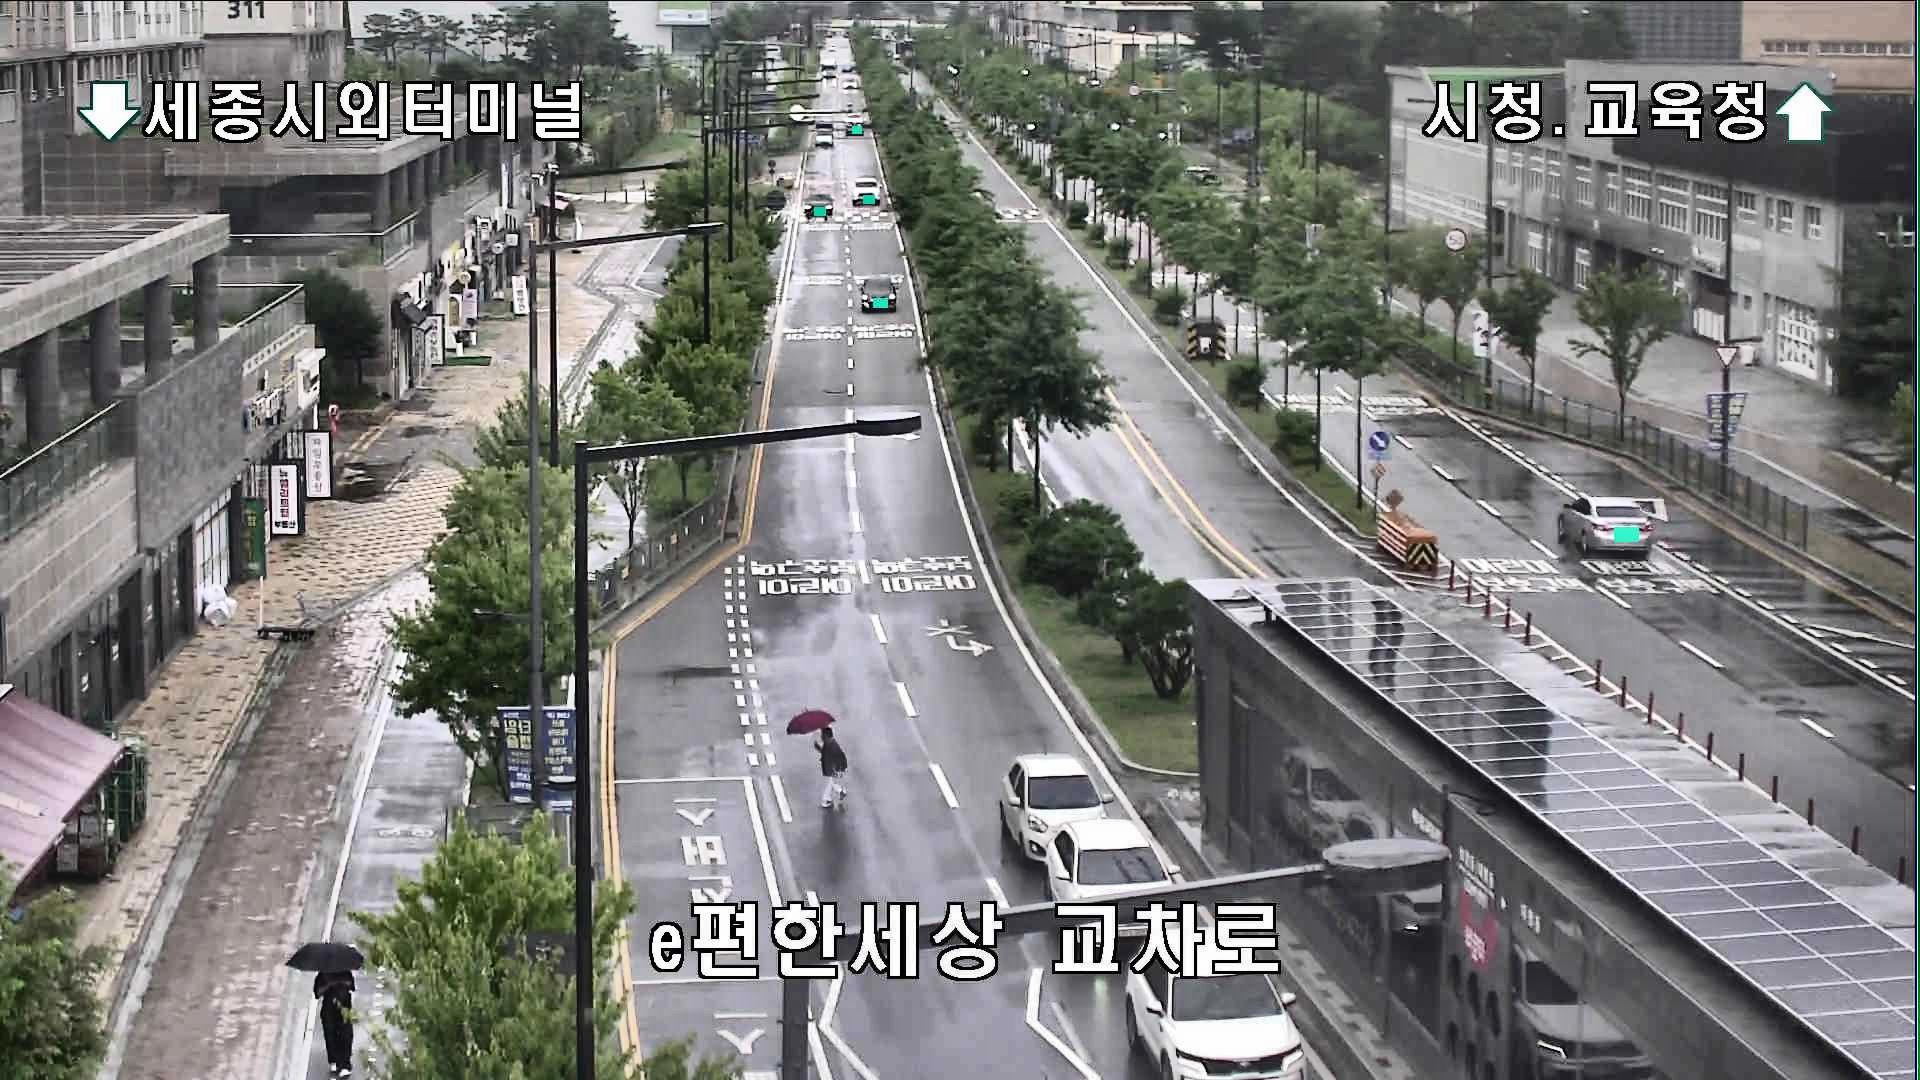um_jaywalk: (785, 709, 849, 811)
um_sidewalk: (286, 942, 363, 1077)
